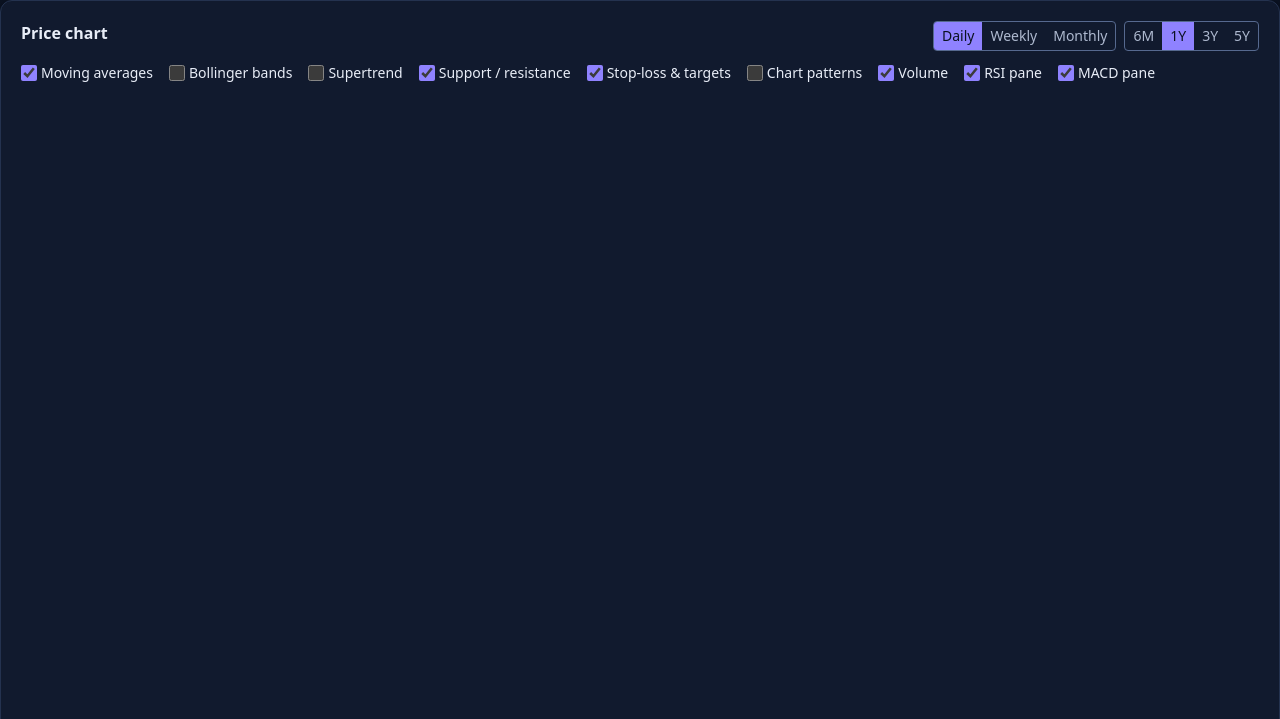
Test: PriceChart › toggles overlays and hides stops on another timeframe
Click the checkbox labelled "Supertrend": click(316, 73) [308,65,324,81]
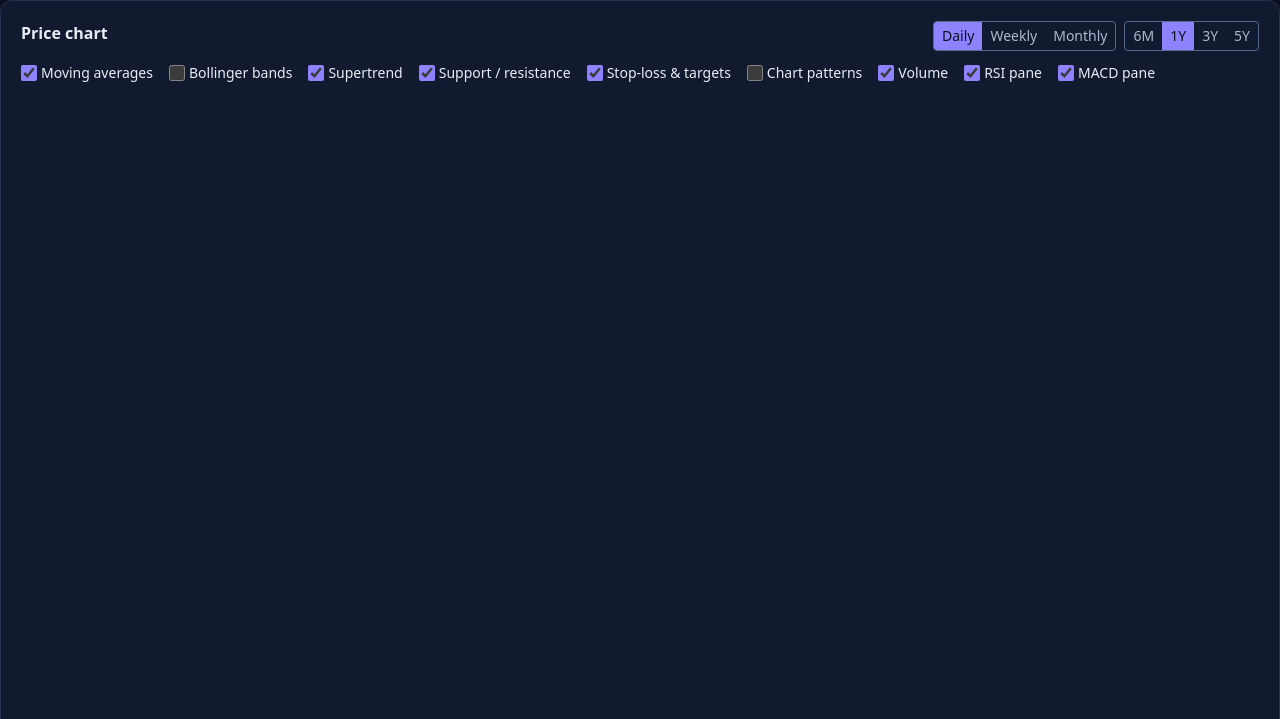
Click the checkbox labelled "RSI pane": click(972, 73) [964,65,980,81]
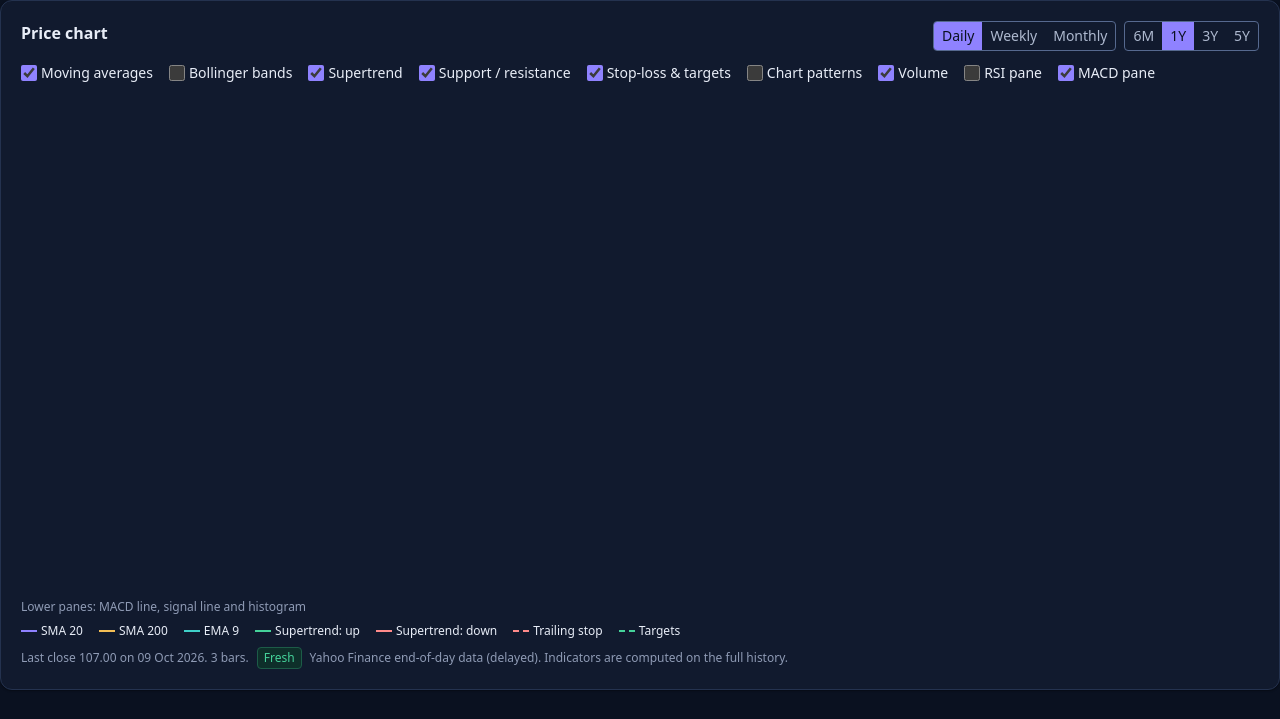
Click the checkbox labelled "MACD pane": click(1066, 73) [1058,65,1074,81]
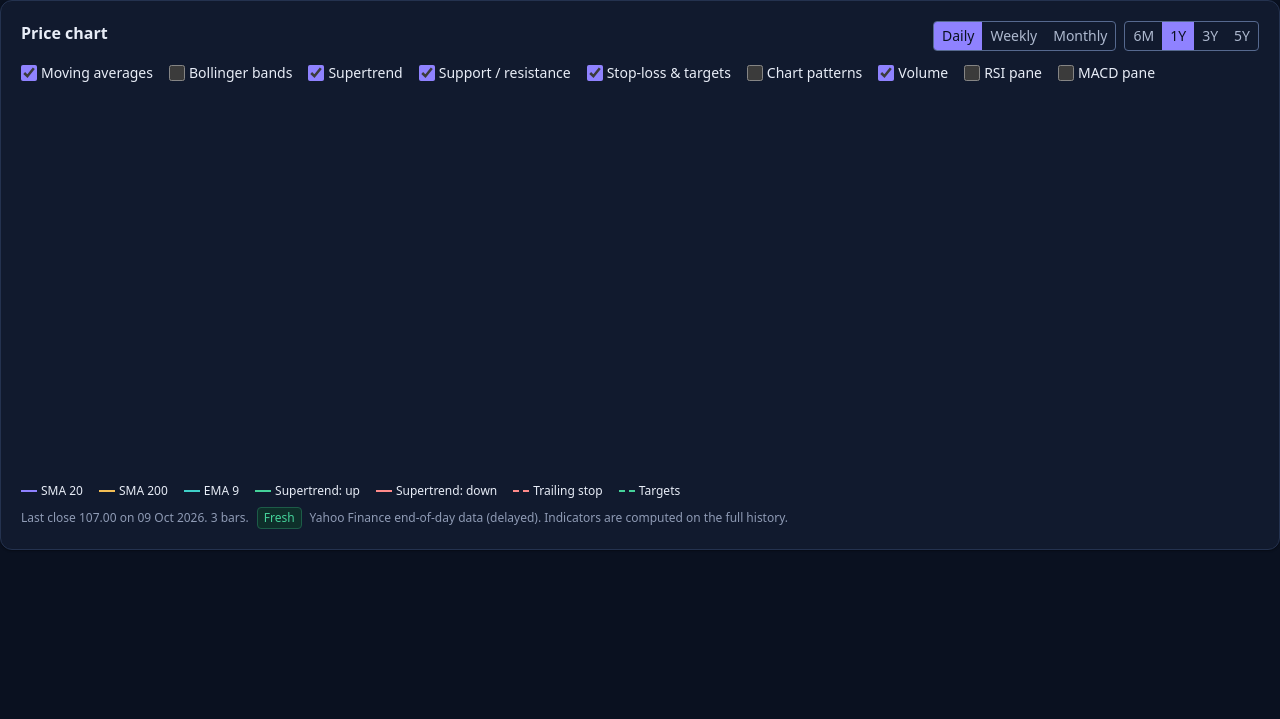
Now the text "Lower panes" is gone
Click the button "Weekly": click(1014, 36) [982,22,1045,50]
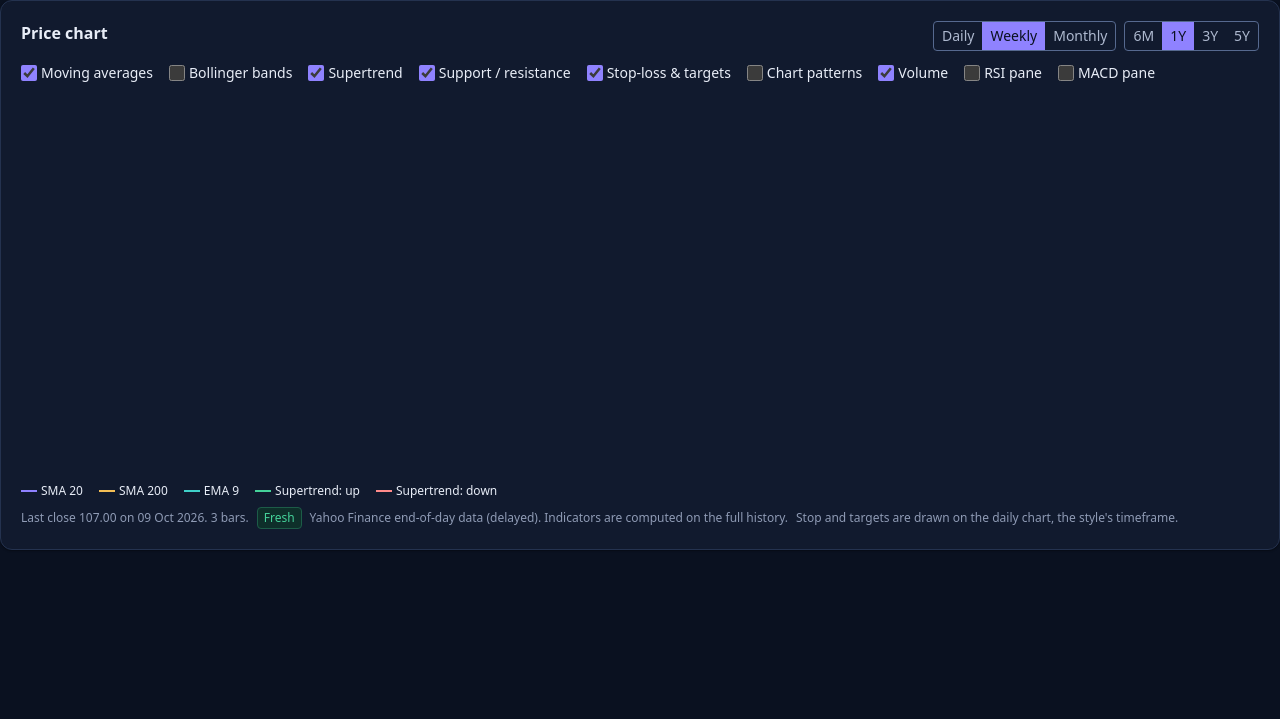
Now the text "drawn on the daily chart" is shown, box [796,510,1178,526]
